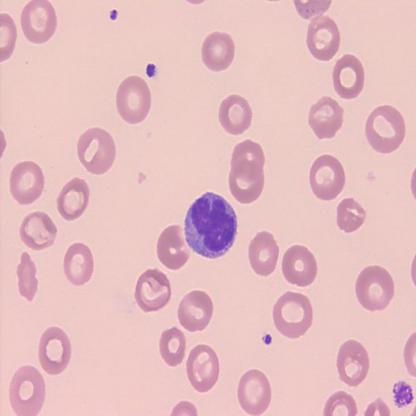Lymphocyte: (184, 191, 238, 258)
